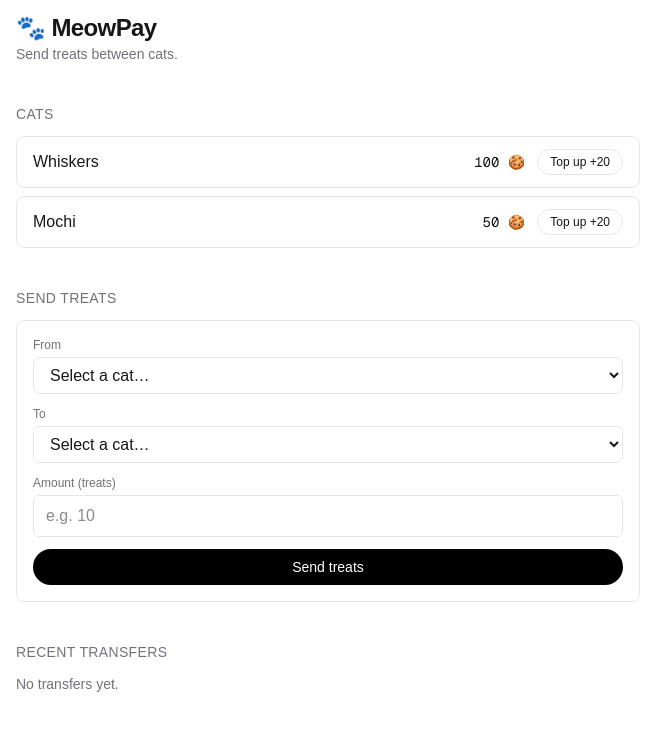
Scenario: Home › rejects a cat sending treats to itself
Check: the list is shown, box [16,136,640,248]
Select "Whiskers (100 treats)" in the dropdown labelled "From" at (328, 376), box [33,357,623,394]
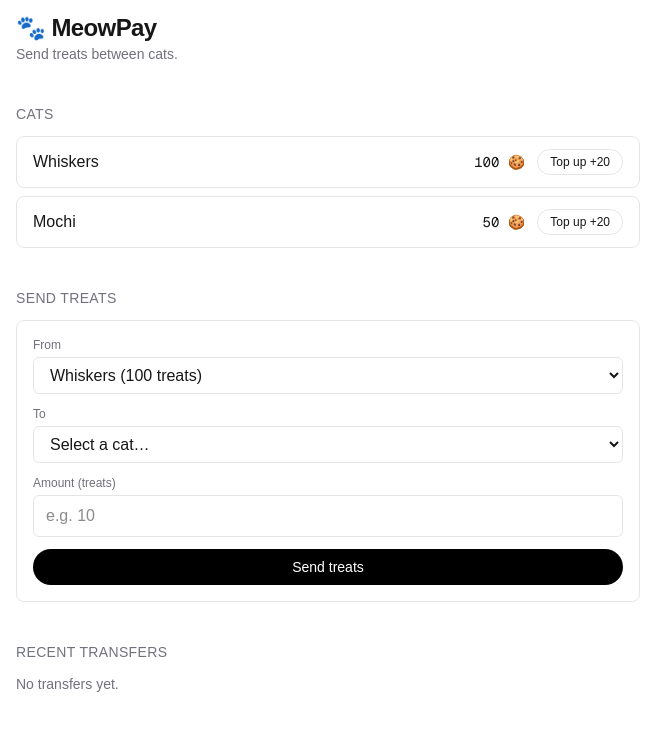
Select "Whiskers" in the dropdown labelled "To" at (328, 444), box [33,426,623,463]
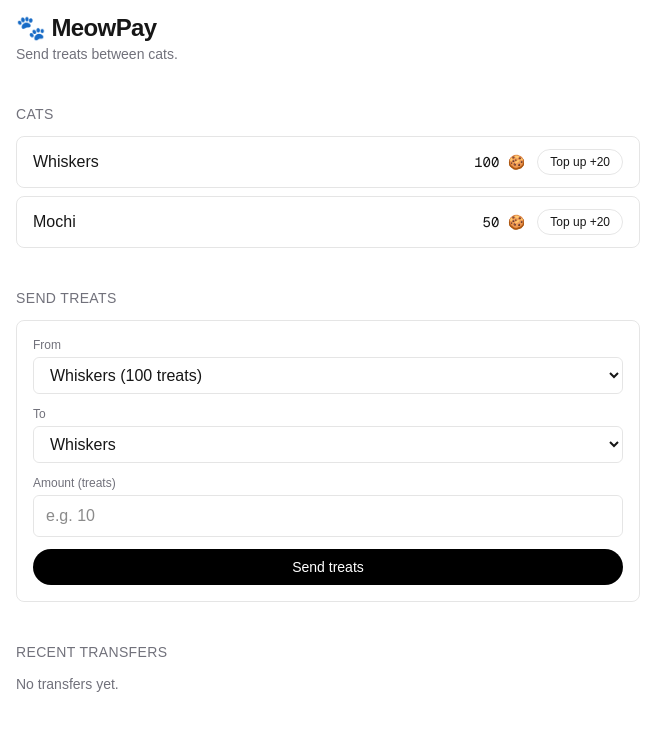
Type "5" into the field labelled "Amount (treats)".
click(328, 516); type("5")  # box [33,495,623,537]
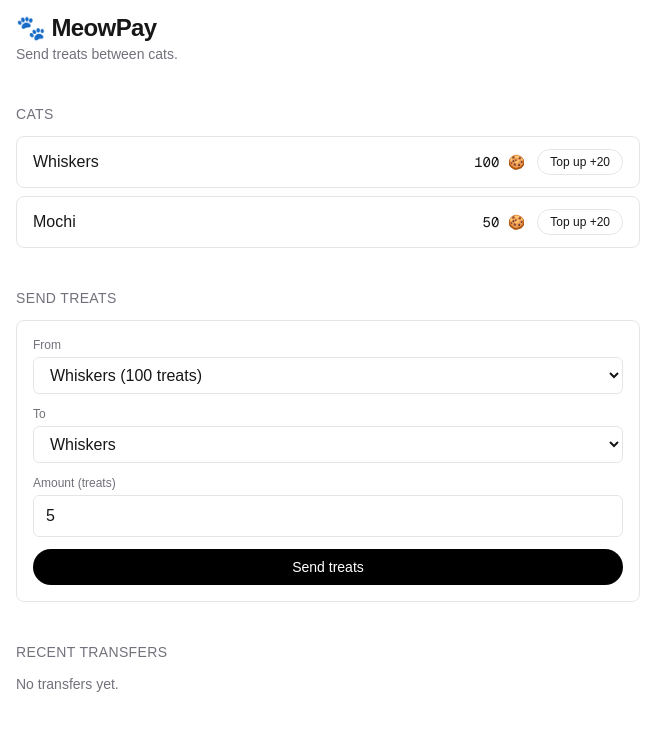
Click the button "Send treats".
click(328, 567)  # box [33,549,623,585]
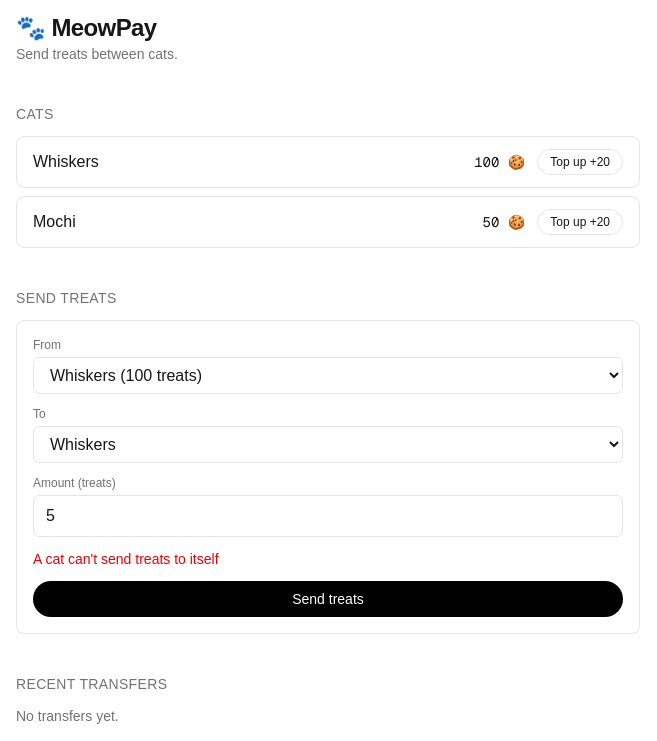
Check: the text "A cat can't send treats to itself" is shown, box [33,551,219,567]
